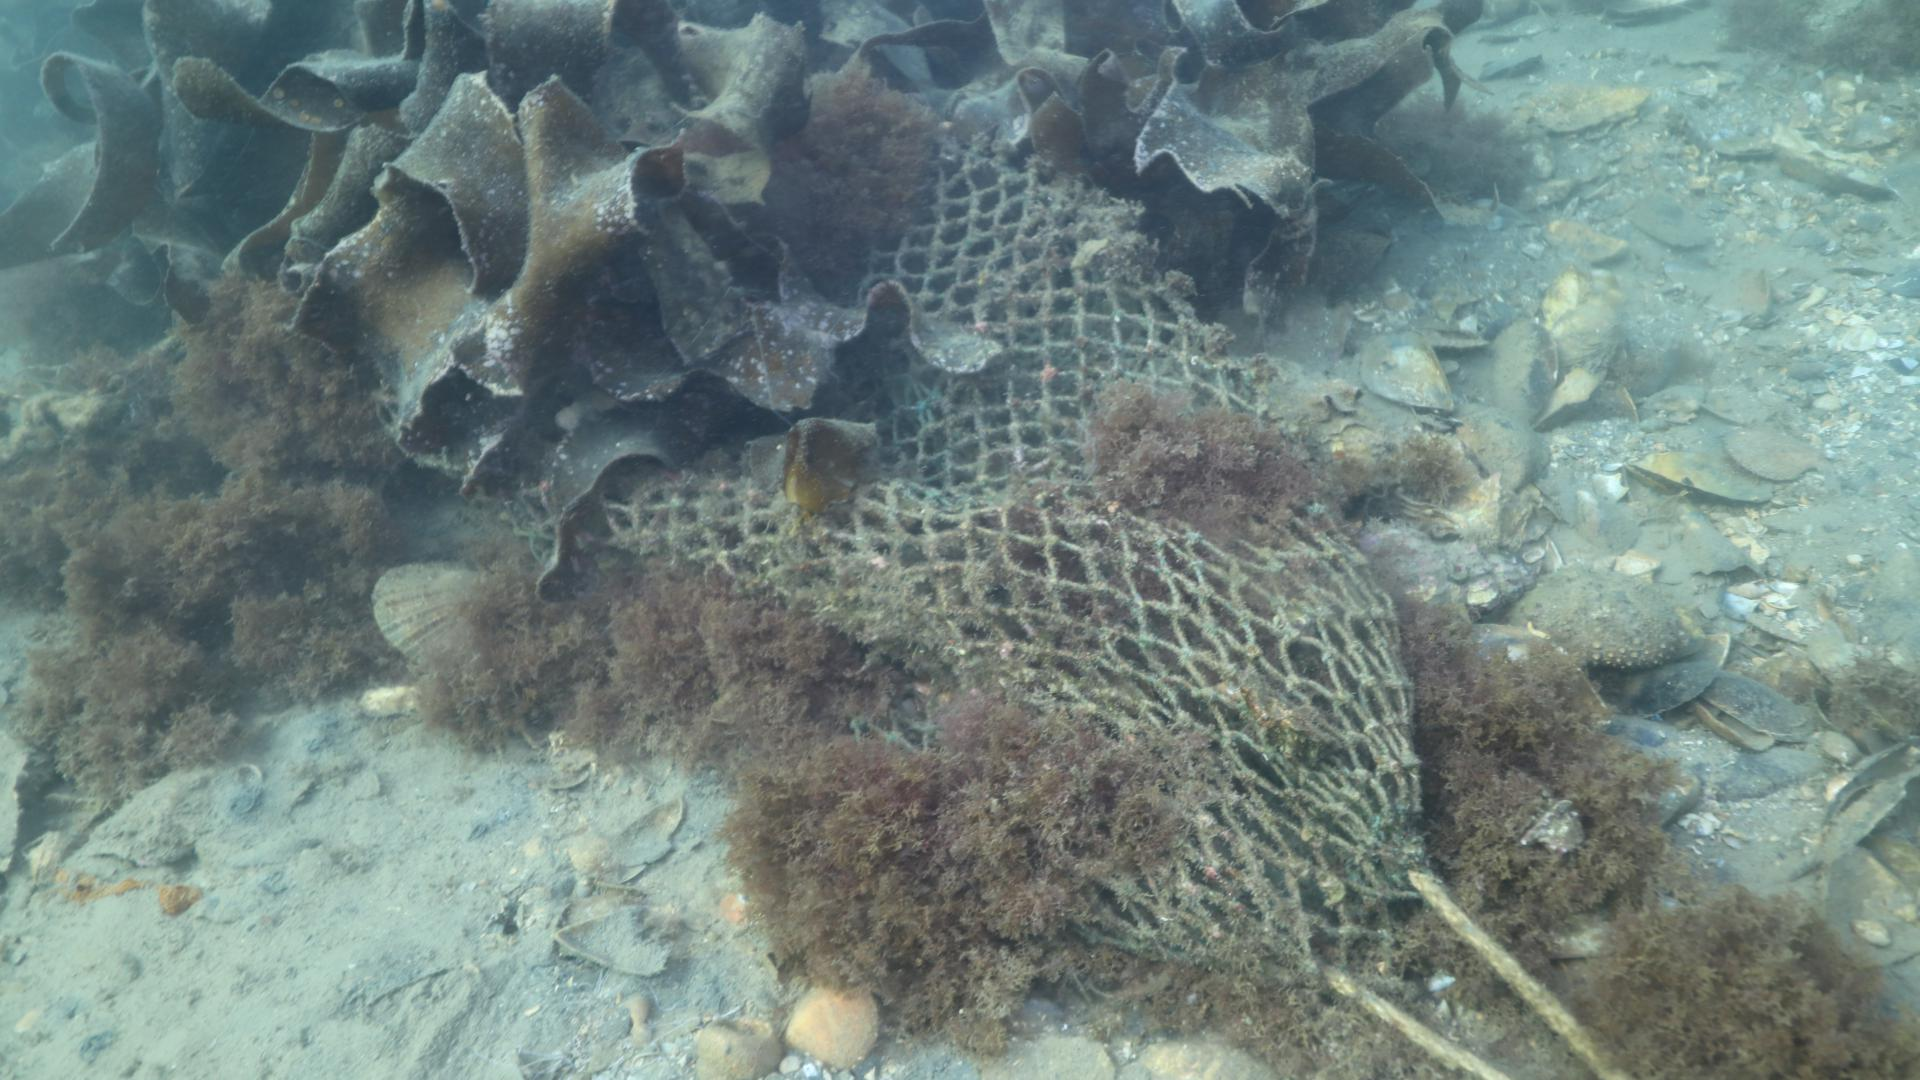fish net: (599, 142, 1424, 992)
